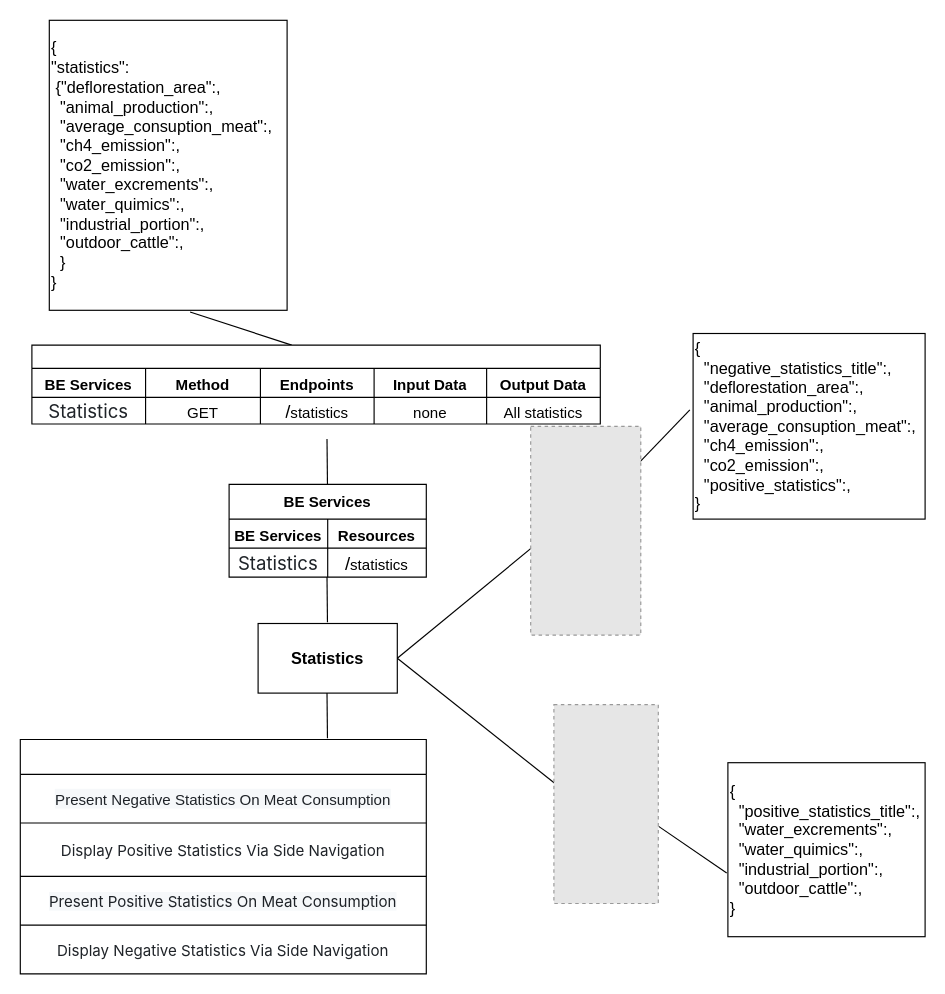
Some shapes in this 945 by 994 pixel diagram are drawn without their labels. Grey dashed boxes stand in for pictures. Here are the shapes that lost their labels. From the top down, the box of each, then its label:
(31, 344, 600, 424): APIs
(19, 738, 426, 974): FE Services
